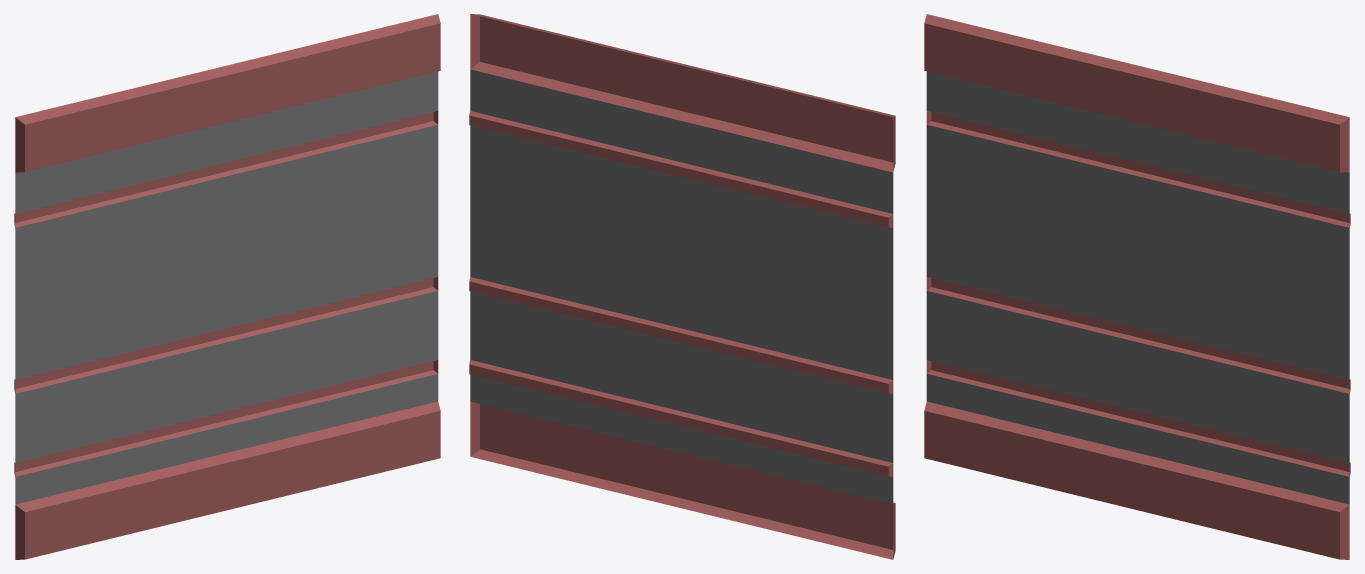
File: SM_Module_5.fbx
3 views of the same model, side by side, from view 1: azimuth 30°, elevation 25°; view 2: azimuth 150°, elevation 25°; view 3: azimuth 330°, elevation 25° (orthographic).
Visible parts, largest first — view 1: SM_Module_5; view 2: SM_Module_5; view 3: SM_Module_5.
Boxes of the visible parts, <box> form: SM_Module_5: <box>14,14,440,559</box>; SM_Module_5: <box>469,14,895,559</box>; SM_Module_5: <box>924,14,1350,559</box>.
Size of the model in its own units: 300 by 300 by 11.04.
